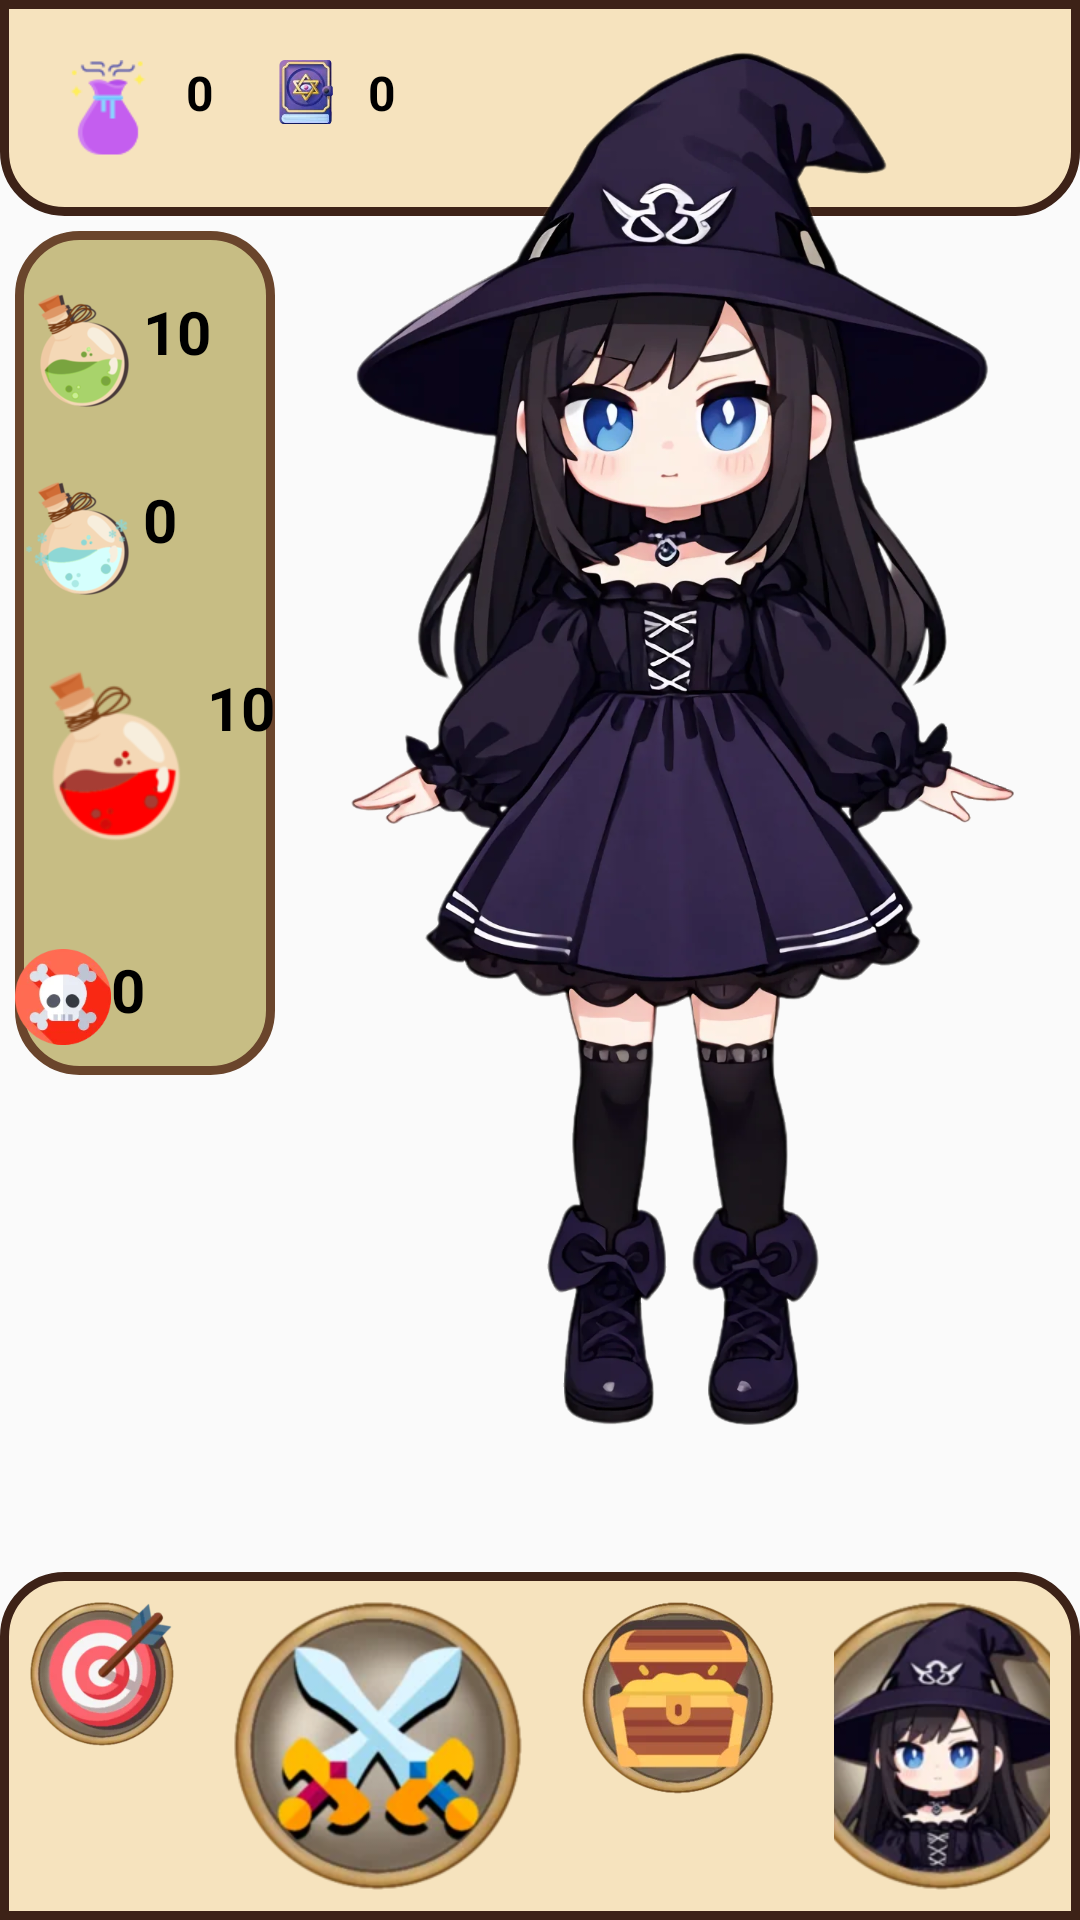

Icon click points for this 1080px×1920px phone screenshot, format [x,y]:
dust: [108,107]
potion ice: [77,539]
shop: [678,1698]
